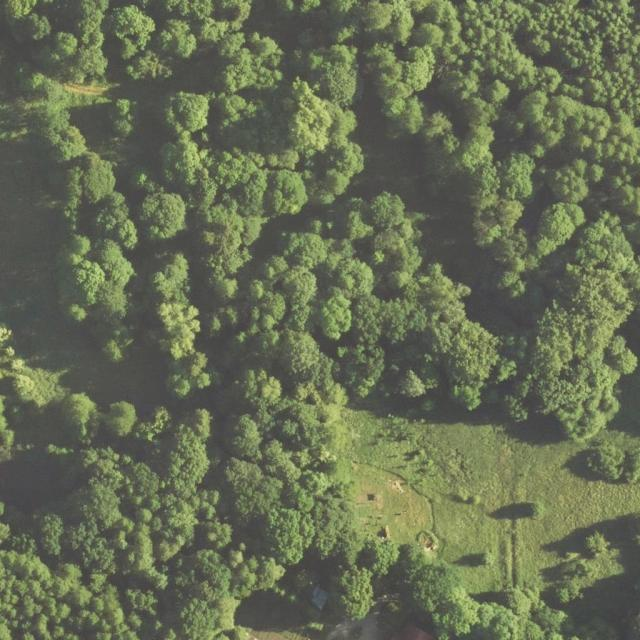greenland: (236, 492, 582, 640)
